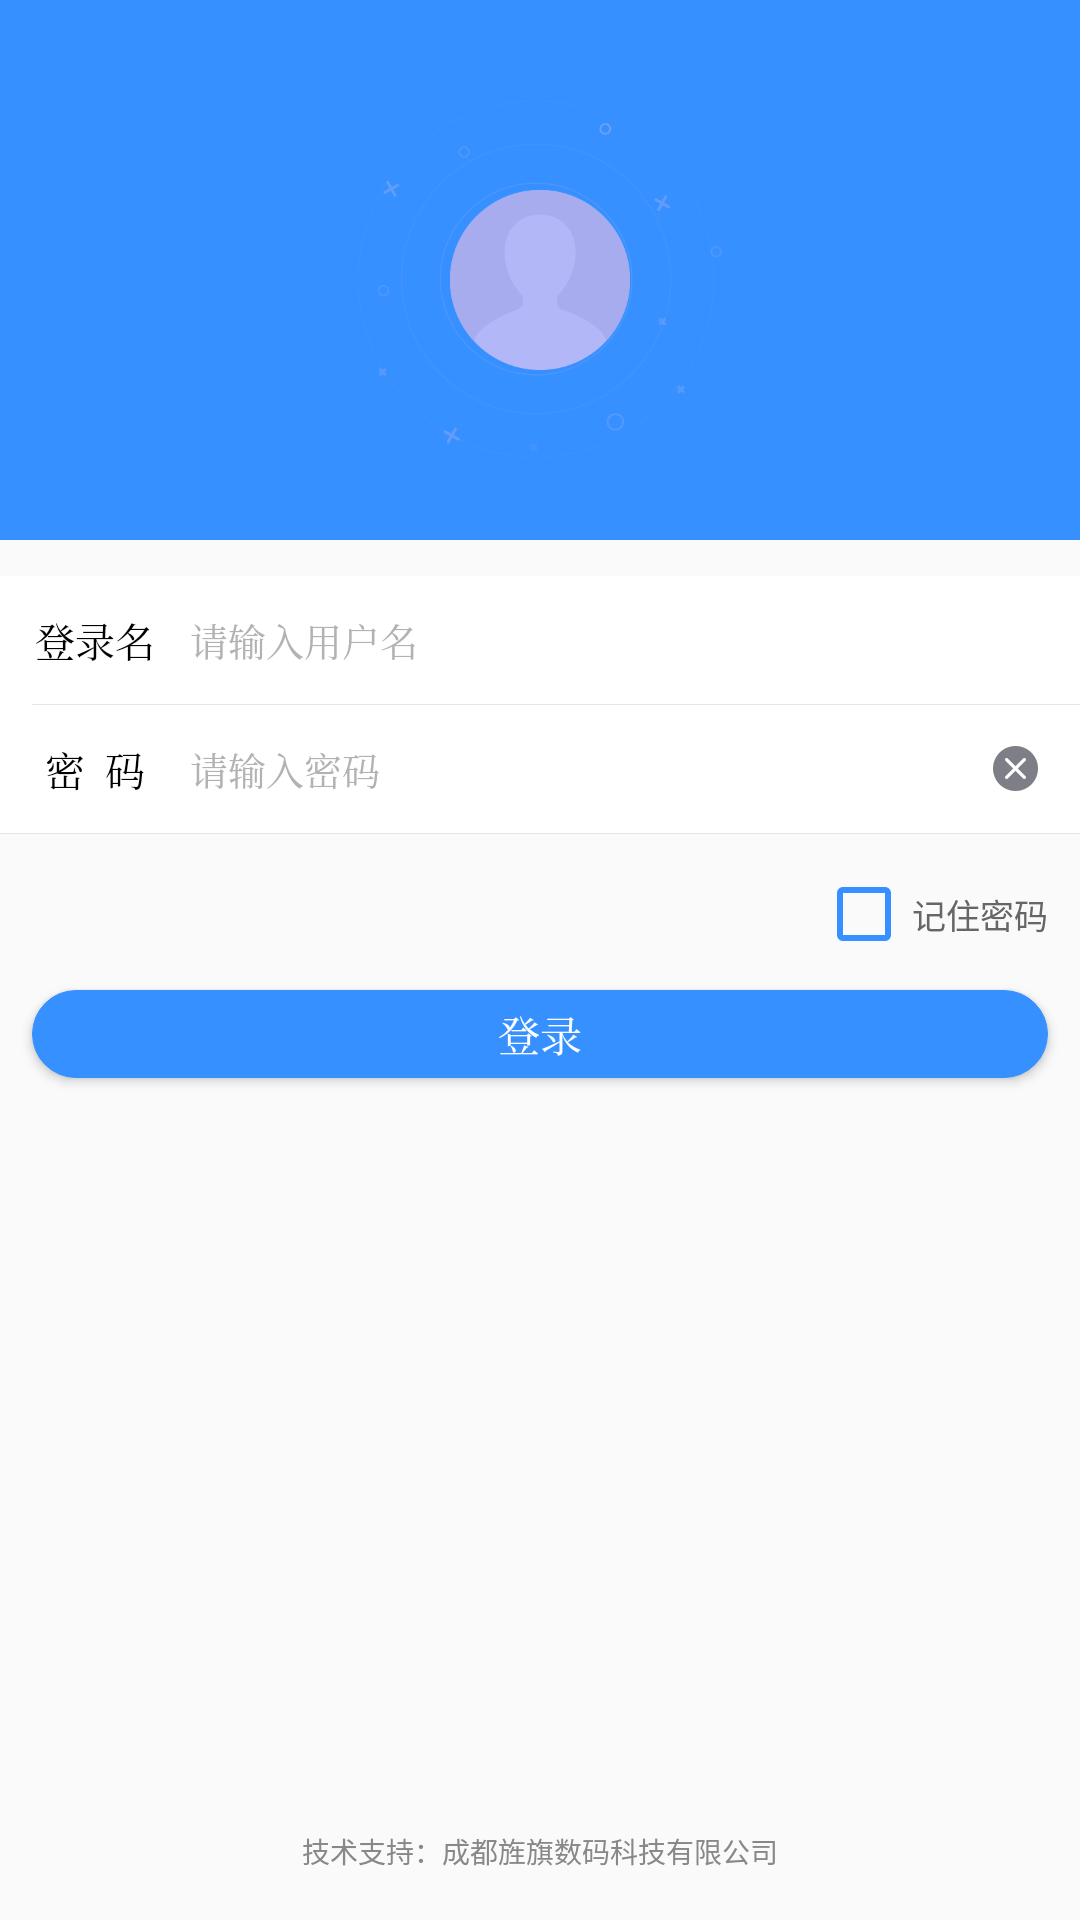

Icon bounding boxes for this 1080 x 1920 phone screenshot, format {"x1": x1, "y1": y1, "x2": x2, "y2": y2}:
advar: {"x1": 450, "y1": 190, "x2": 630, "y2": 370}
clear text: {"x1": 993, "y1": 746, "x2": 1038, "y2": 791}
